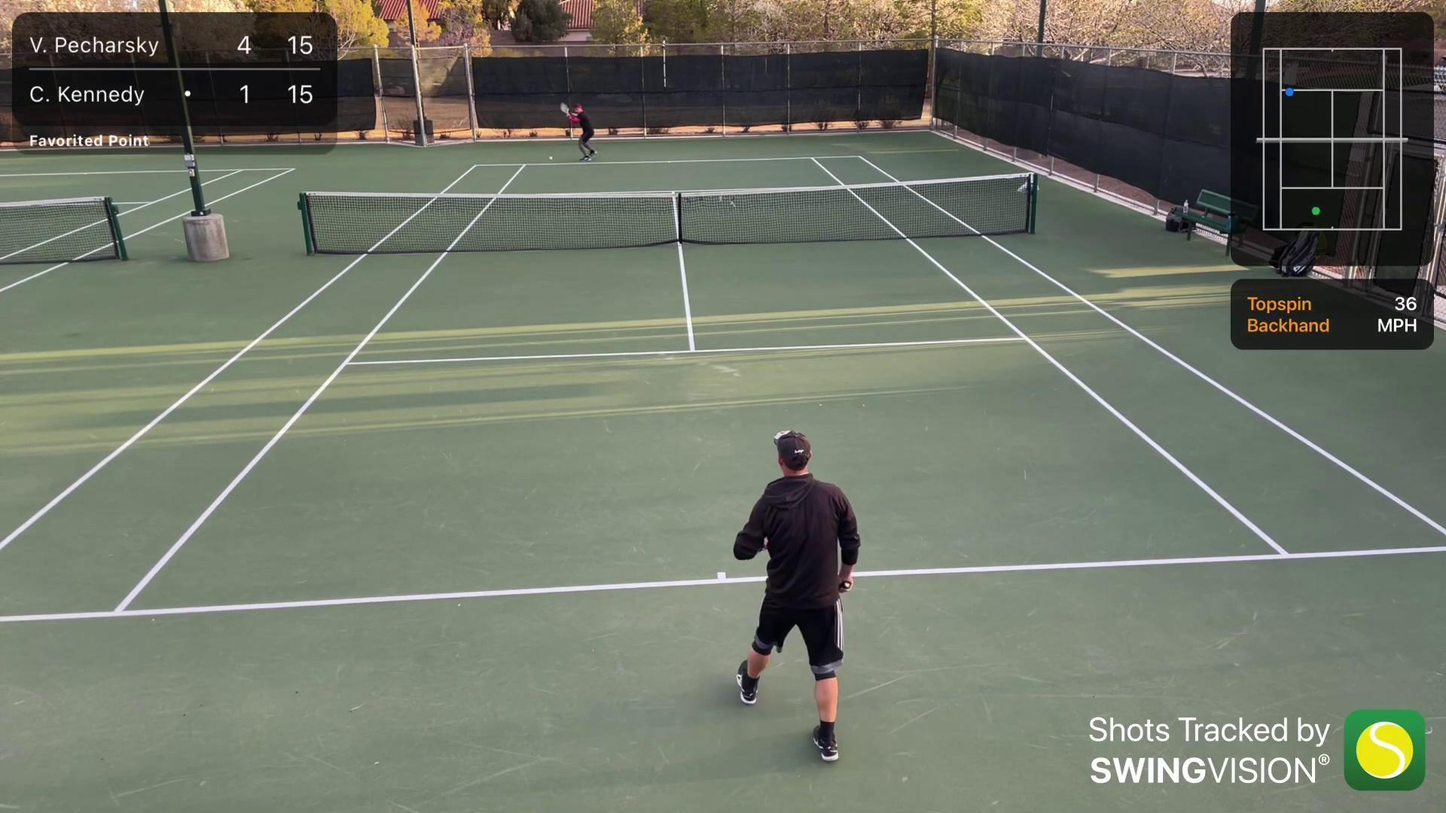ball: (548, 155, 555, 162)
